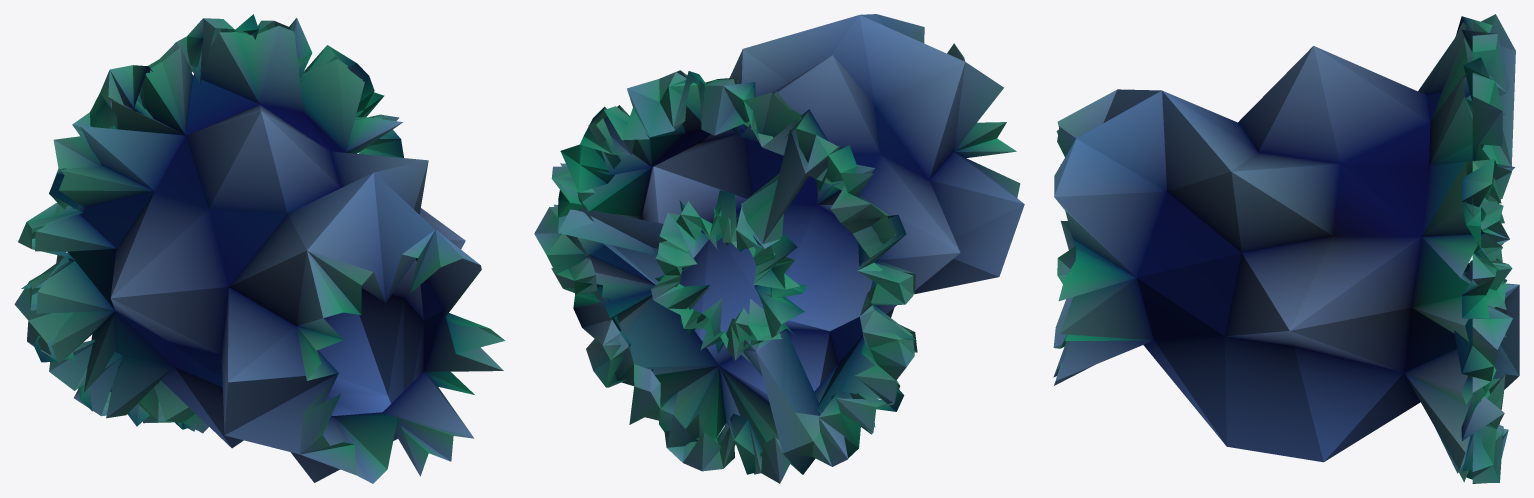
Rendered from lamp_shade_2_final200.obj.
The picture shows the model from 3 angles, left to right: view 1: azimuth 30°, elevation 25°; view 2: azimuth 150°, elevation 25°; view 3: azimuth 270°, elevation 25°; orthographic projection. The views are drawn at different scales.
Size of the model in its own units: 1.25 by 1.25 by 1.22.
